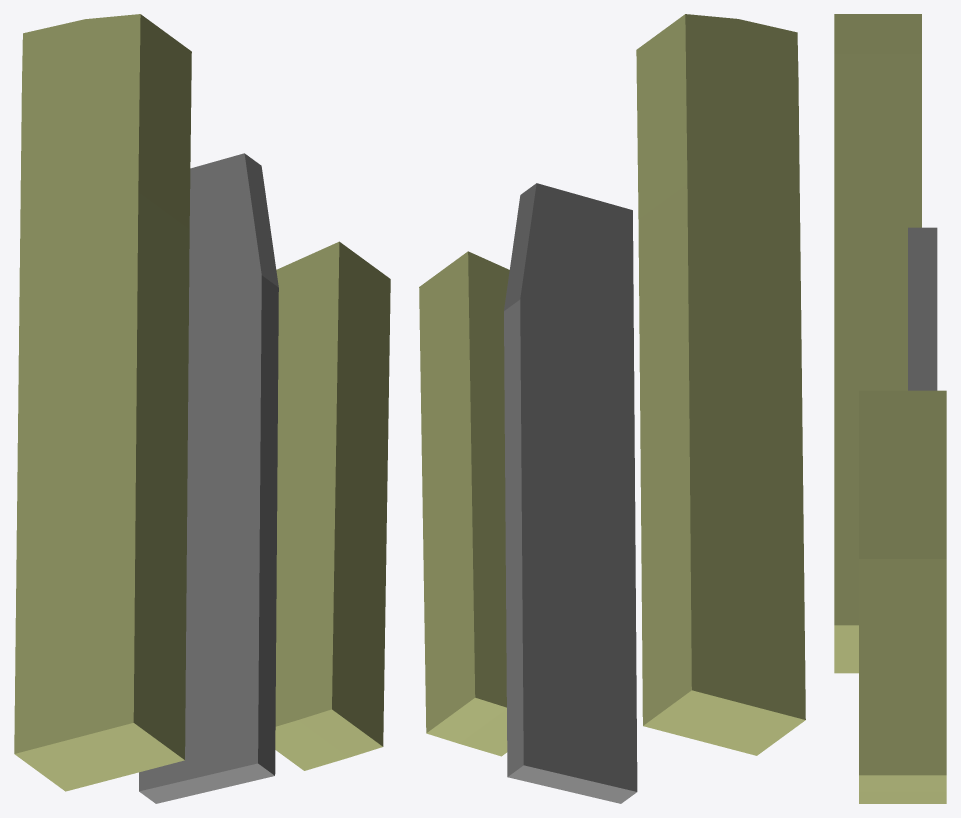
3 views of the same model, side by side, from view 1: azimuth 30°, elevation 25°; view 2: azimuth 150°, elevation 25°; view 3: azimuth 270°, elevation 25° (orthographic). The views are drawn at different scales.
Parts seen in each view (by area): view 1: 0_2_0_1_2_2_1_2; view 2: 0_2_0_1_2_2_1_2; view 3: 0_2_0_1_2_2_1_2.
Boxes of the visible parts, left/top/right/bottom form: 0_2_0_1_2_2_1_2: left=14, top=14, right=390, bottom=803; 0_2_0_1_2_2_1_2: left=419, top=14, right=805, bottom=803; 0_2_0_1_2_2_1_2: left=834, top=14, right=946, bottom=803.
Size of the model in its own units: 34.39 by 77.05 by 11.53.
